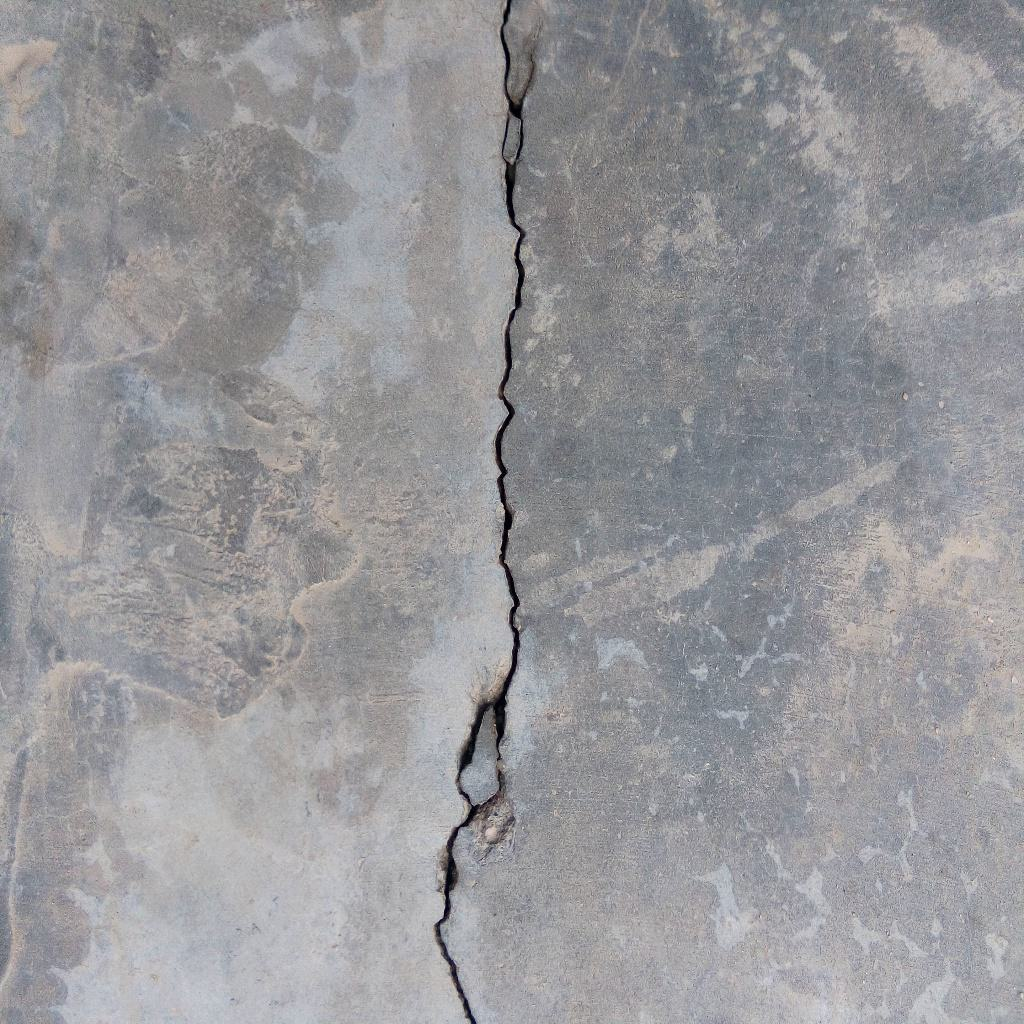Crack: (433, 1, 537, 1024)
